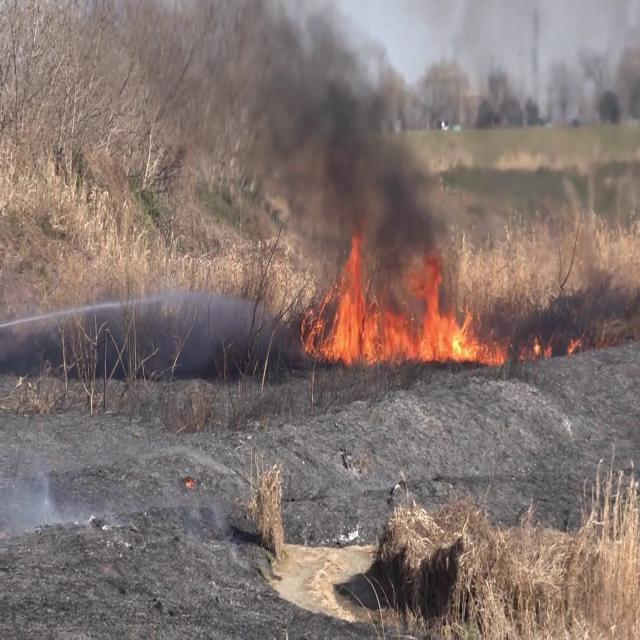Fire: (301, 240, 504, 369)
Smoke: (255, 1, 463, 276)
